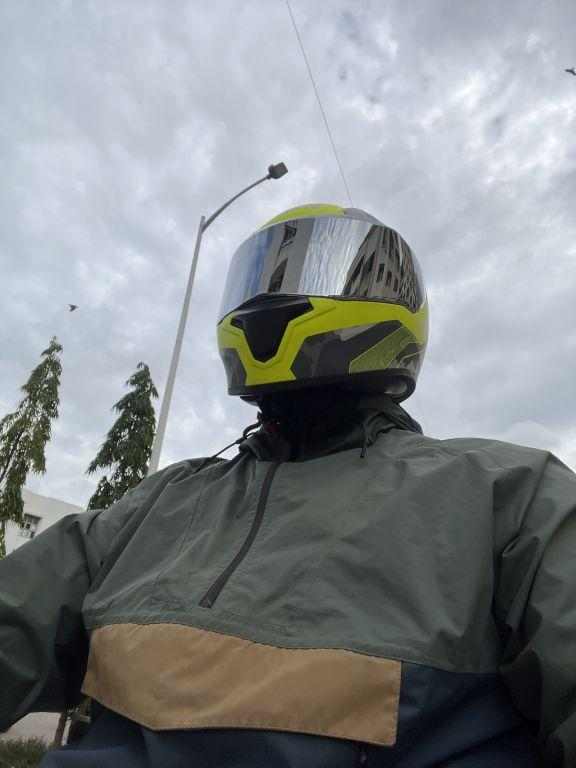helmet: (205, 194, 434, 422)
